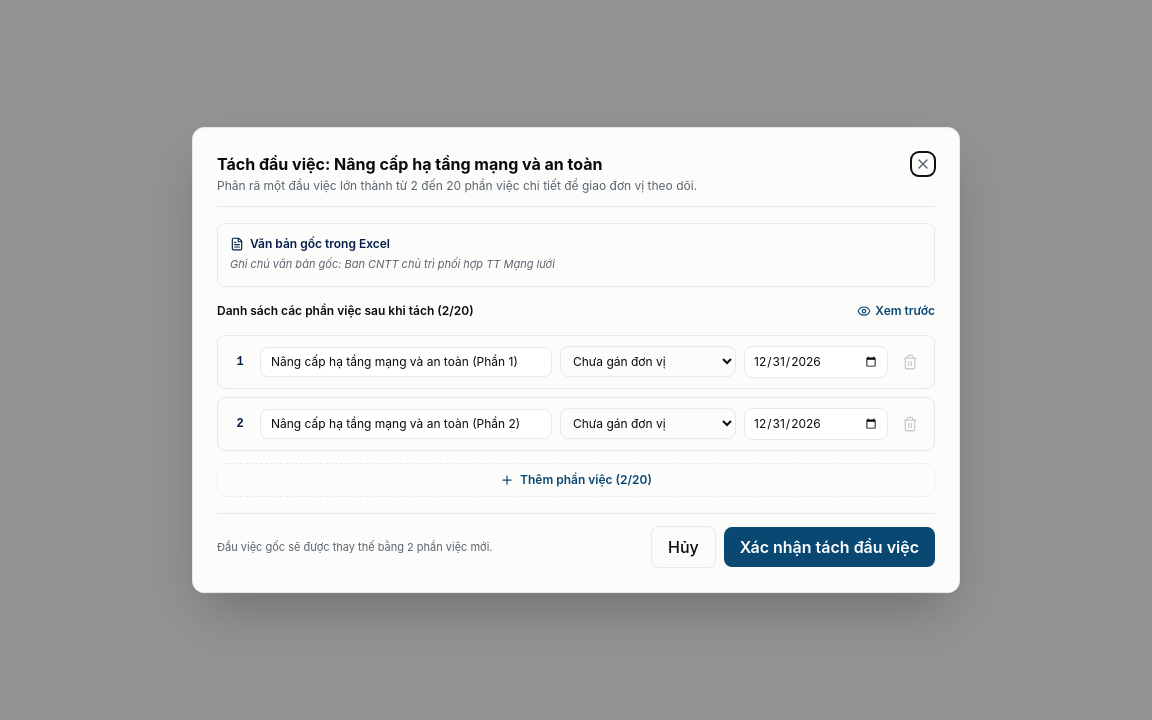
Plan 4A W3 Task Dialogs › TaskSplitDialog › handles INVALID_STATE error displaying friendly rejection message
The width and height of the screenshot is (1152, 720).
Click the button with test id "confirm-split-button" at (829, 547), box 724,527 -> 935,567
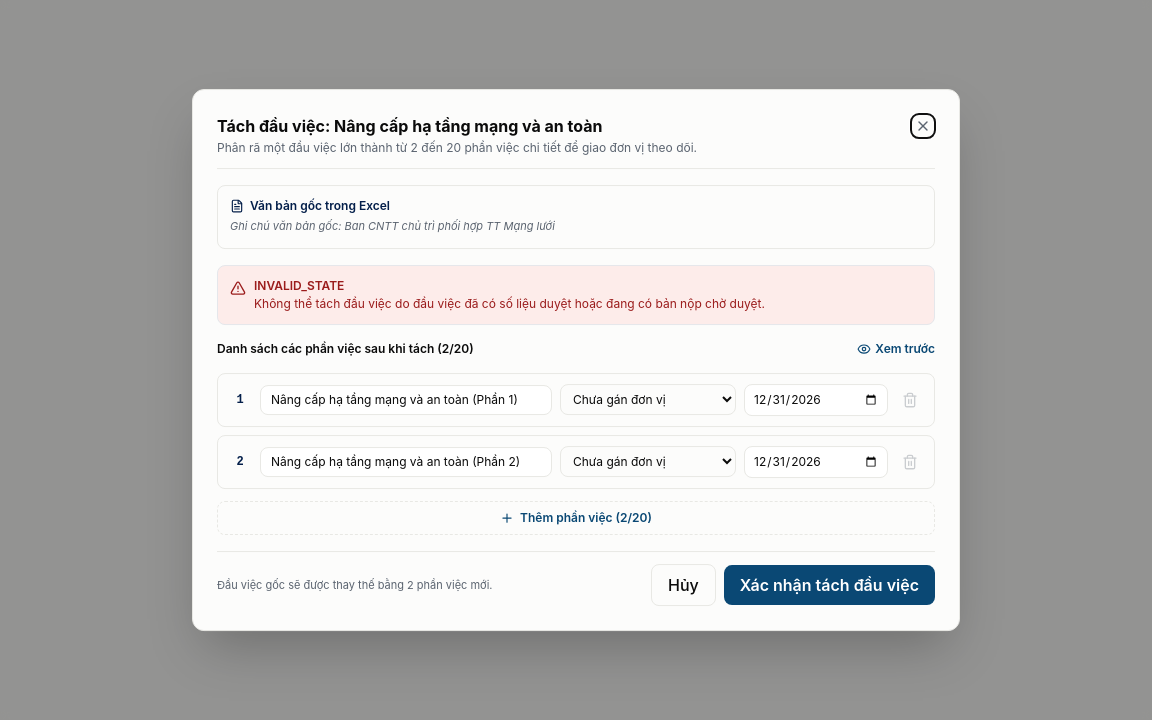
Now the text "Không thể tách đầu việc do đầu việc đã có số liệu duyệt" is shown, box 254,296 -> 765,311
